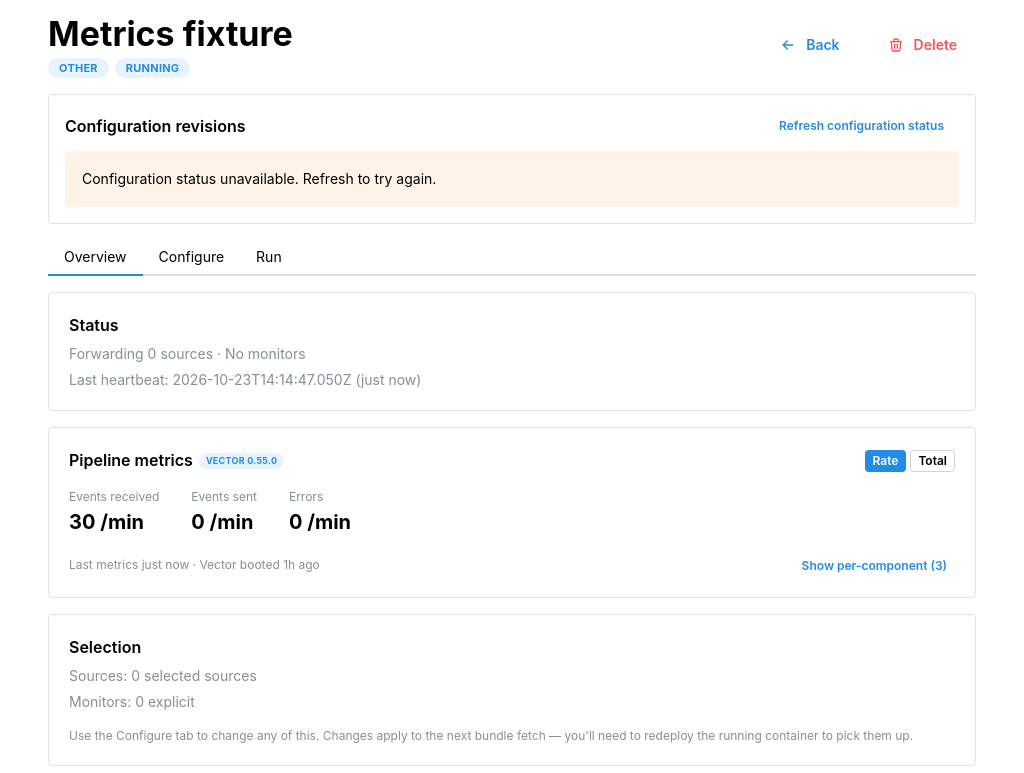
it: sorts source children by throughput and supports collapsing and reopening their breakdown
Click the button "Show per-component (3)".
click(874, 566)  # box [794, 555, 955, 577]
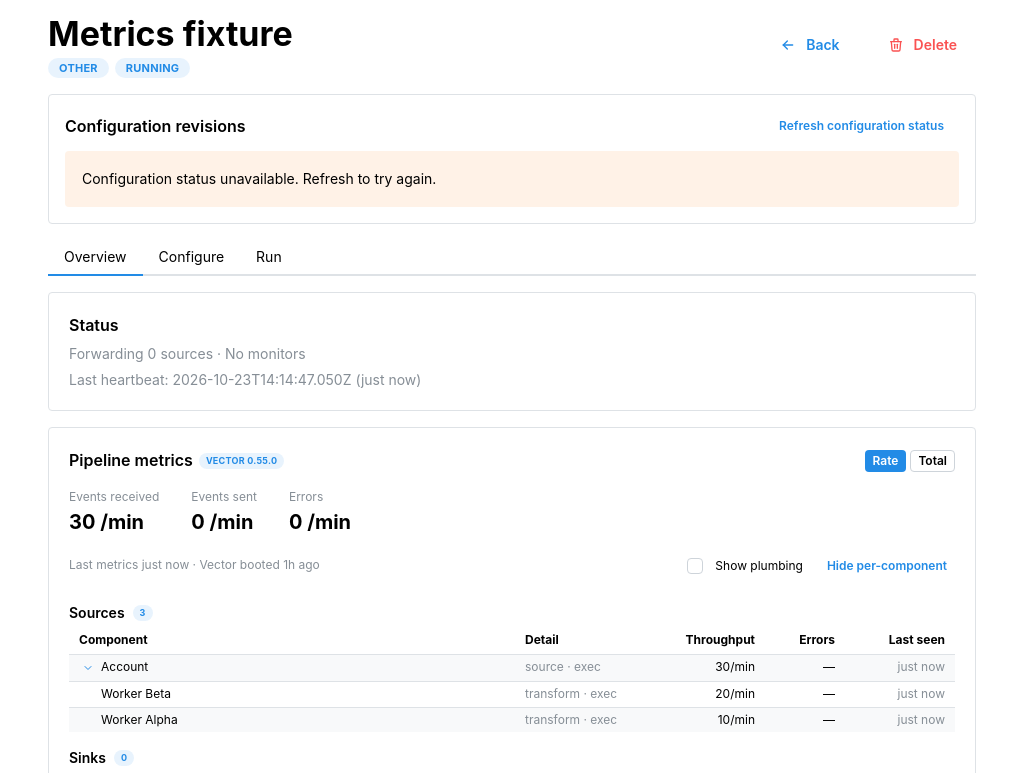
Click the button named "Collapse source breakdown".
click(88, 668)  # box [79, 659, 97, 677]
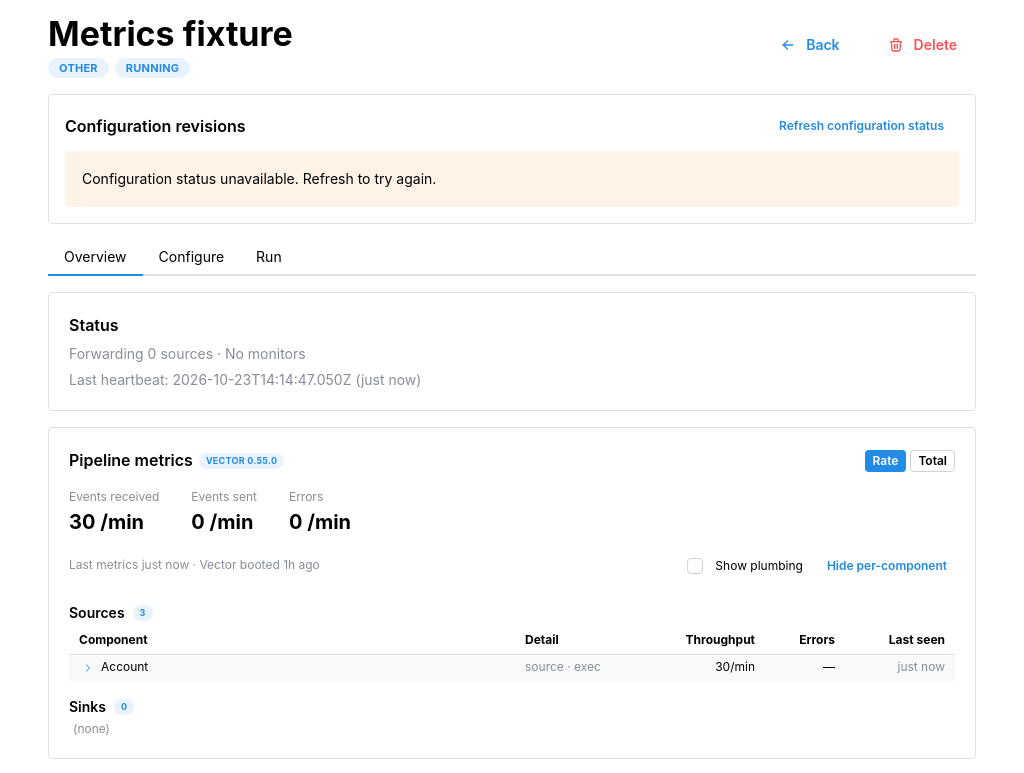
Now the text "Worker Alpha" is gone
Click the button named "Expand source breakdown".
click(88, 668)  # box [79, 659, 97, 677]
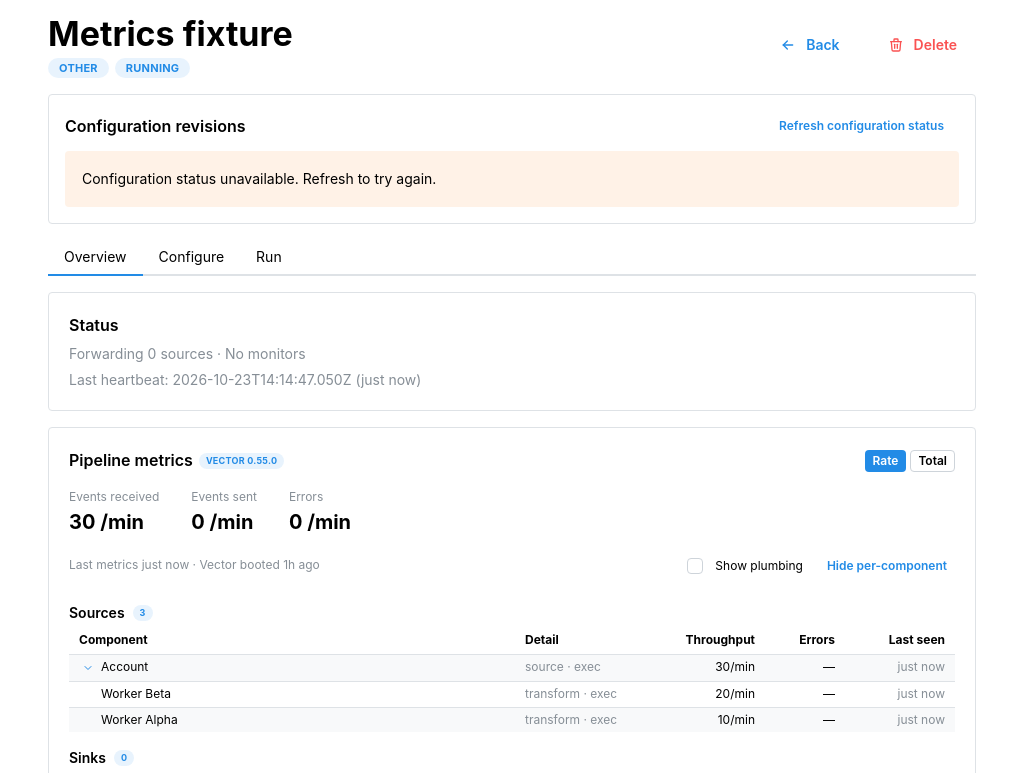
Now the text "Worker Alpha" is shown, box [101, 712, 178, 728]
Click the button "Hide per-component".
click(887, 566)  # box [819, 555, 955, 577]
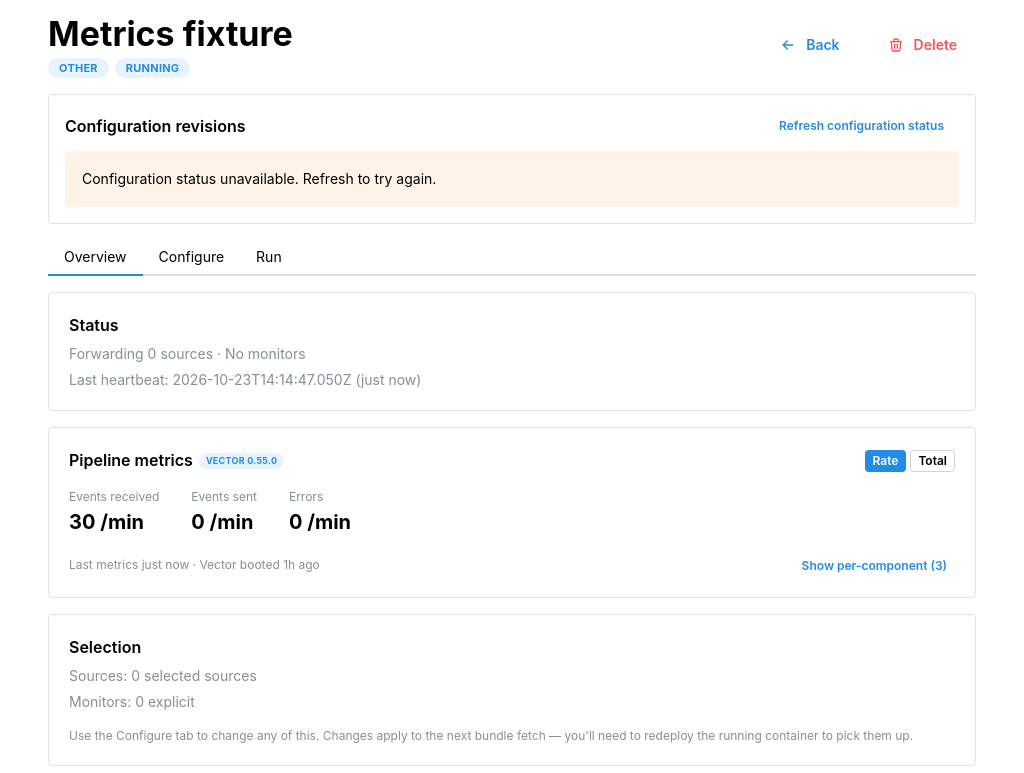
Now the table is gone
